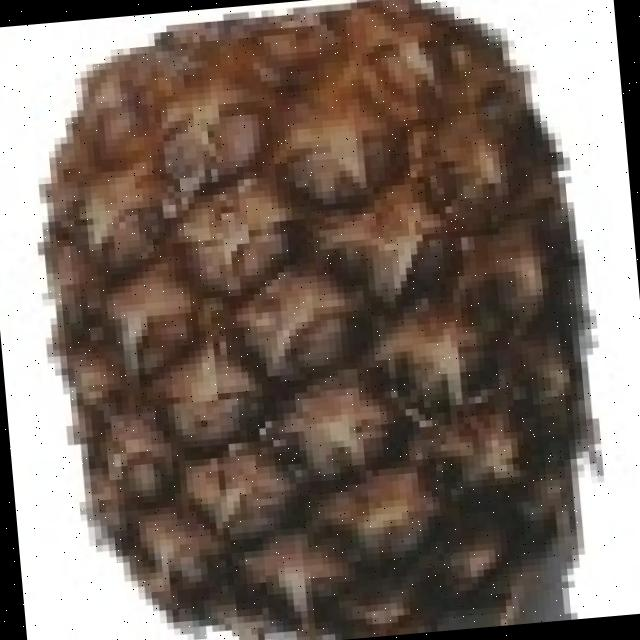pineapple: (44, 0, 591, 640)
